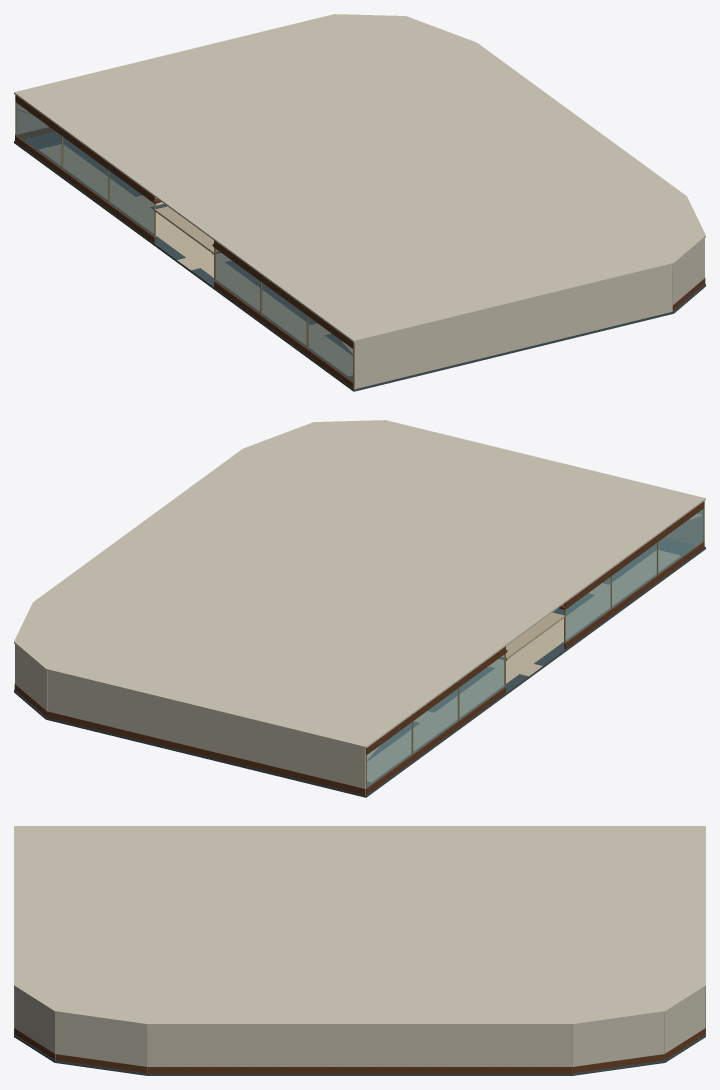
The model's file is AST-GAR-006.glb.
3 views of the same model, one above another, from view 1: azimuth 30°, elevation 25°; view 2: azimuth 150°, elevation 25°; view 3: azimuth 270°, elevation 25° (orthographic).
Visible parts, largest first — view 1: NG_ivory_enamel, NG_glass, NG_warm_stone, NG_warm_walnut, NG_night_resin, NG_oatmeal_weave; view 2: NG_ivory_enamel, NG_glass, NG_warm_stone, NG_warm_walnut, NG_night_resin, NG_oatmeal_weave; view 3: NG_ivory_enamel, NG_warm_walnut, NG_night_resin.
Part boxes in pixels (bbox=[...]): NG_ivory_enamel: bbox=[14, 14, 705, 389]; NG_glass: bbox=[16, 103, 352, 381]; NG_warm_stone: bbox=[39, 144, 352, 375]; NG_warm_walnut: bbox=[15, 95, 705, 388]; NG_night_resin: bbox=[14, 132, 705, 391]; NG_oatmeal_weave: bbox=[155, 206, 219, 253]; NG_ivory_enamel: bbox=[14, 420, 705, 794]; NG_glass: bbox=[367, 509, 703, 787]; NG_warm_stone: bbox=[367, 550, 680, 781]; NG_warm_walnut: bbox=[14, 501, 704, 795]; NG_night_resin: bbox=[14, 538, 705, 797]; NG_oatmeal_weave: bbox=[500, 612, 564, 659]; NG_ivory_enamel: bbox=[14, 826, 705, 1072]; NG_warm_walnut: bbox=[14, 1028, 705, 1073]; NG_night_resin: bbox=[14, 987, 705, 1075].
Size of the model in its own units: 46 by 5.62 by 68.
10 materials, 7 textured.
